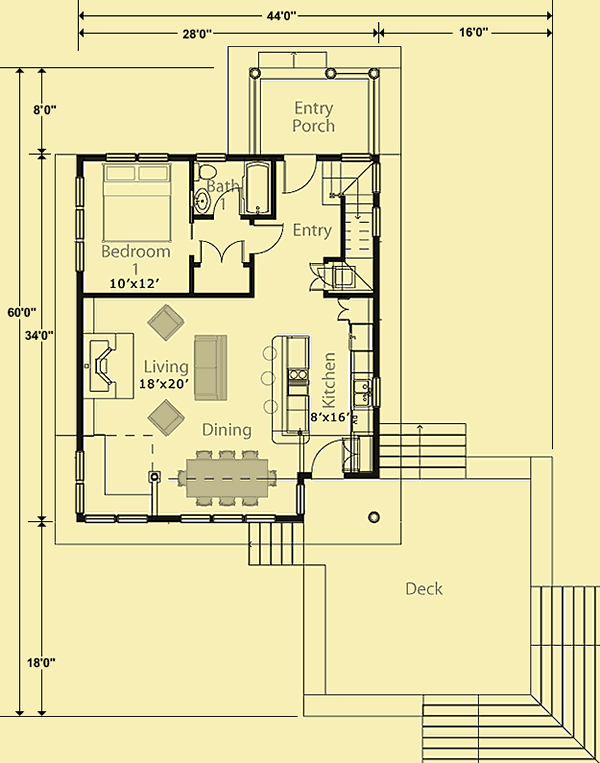bed: (99, 160, 174, 246)
dining table: (174, 445, 282, 509)
door: (193, 237, 250, 268), (309, 436, 345, 484), (279, 151, 317, 196), (249, 220, 287, 258), (211, 188, 242, 223)
kitchen bar: (257, 329, 320, 447)
large sink: (189, 163, 220, 184)
large sofa: (190, 332, 235, 405)
small sink: (191, 188, 214, 218)
small sofa: (141, 396, 189, 439), (141, 301, 185, 344)
stairs: (379, 418, 475, 487), (244, 518, 308, 568)
tub: (241, 160, 274, 215)
windows: (170, 511, 278, 530), (73, 176, 90, 276), (367, 159, 385, 239), (83, 511, 150, 531), (69, 446, 87, 517), (104, 148, 174, 162)
